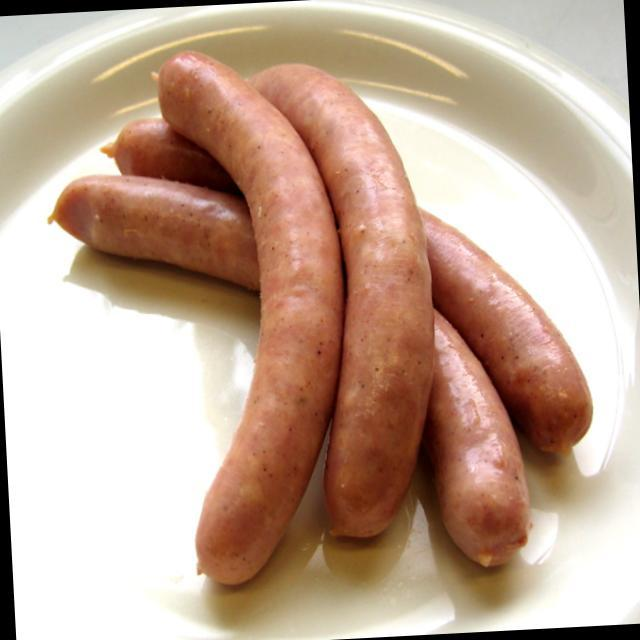Sausage: (33, 18, 593, 607)
